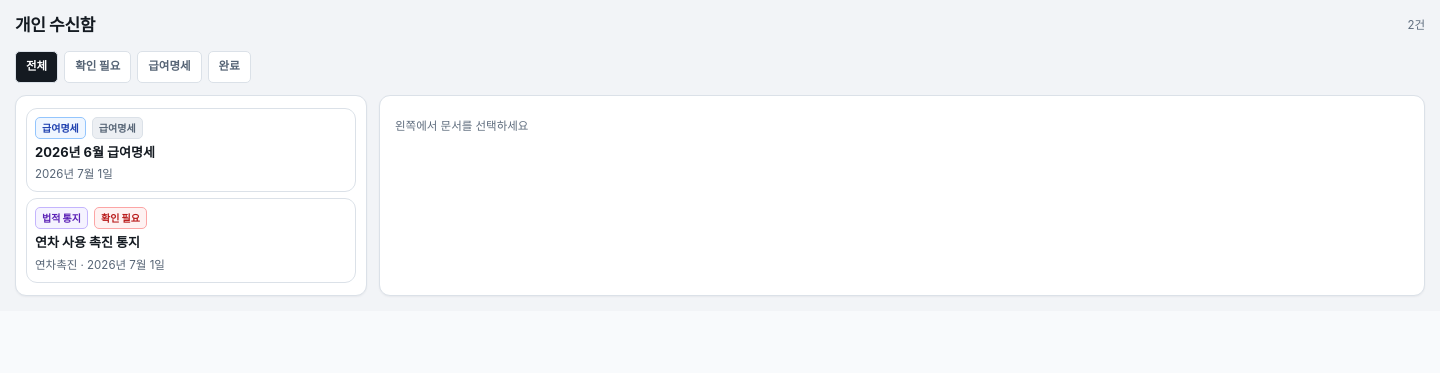
Test: InboxBody › shows a document-load error, not a passkey error, after receipt confirmation succeeds
Click the text "연차 사용 촉진 통지" at (87, 242), box [35, 234, 140, 250]
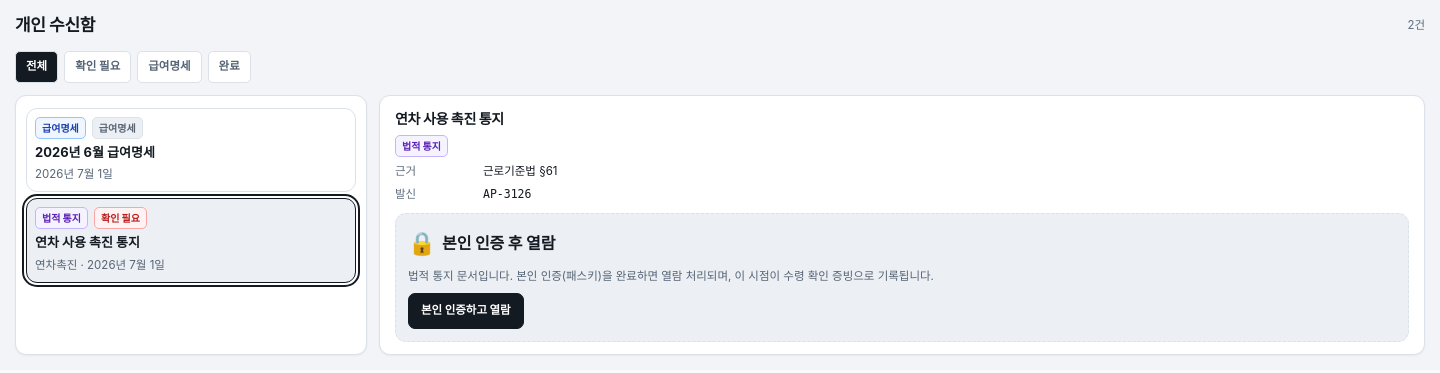
Click the button "본인 인증하고 열람" at (466, 311), box [408, 293, 524, 329]
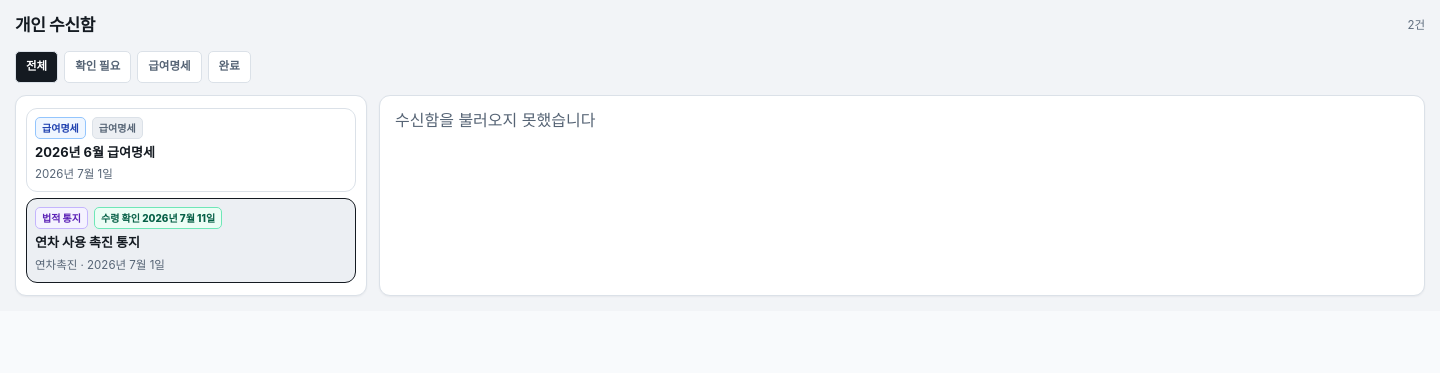
Expected: the text "수신함을 불러오지 못했습니다" is shown, [395, 110, 595, 130]
